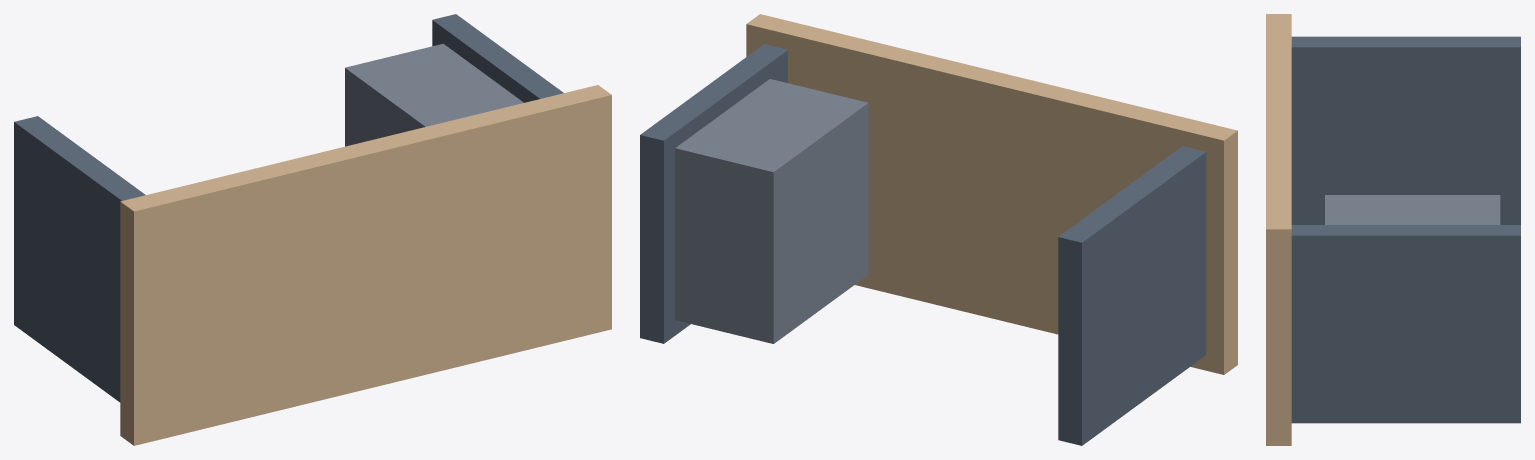
Rendered from desk_single.glb.
The picture shows the model from 3 angles, left to right: view 1: azimuth 30°, elevation 25°; view 2: azimuth 150°, elevation 25°; view 3: azimuth 270°, elevation 25°; orthographic projection. The views are drawn at different scales.
Parts seen in each view (by area): view 1: desktop, leg_-0.7, drawer, leg_0.7; view 2: desktop, drawer, leg_-0.7, leg_0.7; view 3: leg_0.7, leg_-0.7, desktop, drawer.
Part boxes in pixels (box(x1,y1,x2,y2)): desktop: box(120, 85, 611, 445); leg_-0.7: box(14, 116, 145, 402); drawer: box(345, 43, 523, 146); leg_0.7: box(432, 14, 563, 102); desktop: box(746, 14, 1237, 374); drawer: box(675, 79, 868, 343); leg_-0.7: box(1058, 146, 1206, 445); leg_0.7: box(640, 44, 787, 343); leg_0.7: box(1291, 225, 1520, 423); leg_-0.7: box(1291, 36, 1520, 224); desktop: box(1266, 14, 1291, 445); drawer: box(1325, 195, 1500, 224).
Size of the model in its own units: 1.6 by 0.75 by 0.8.
